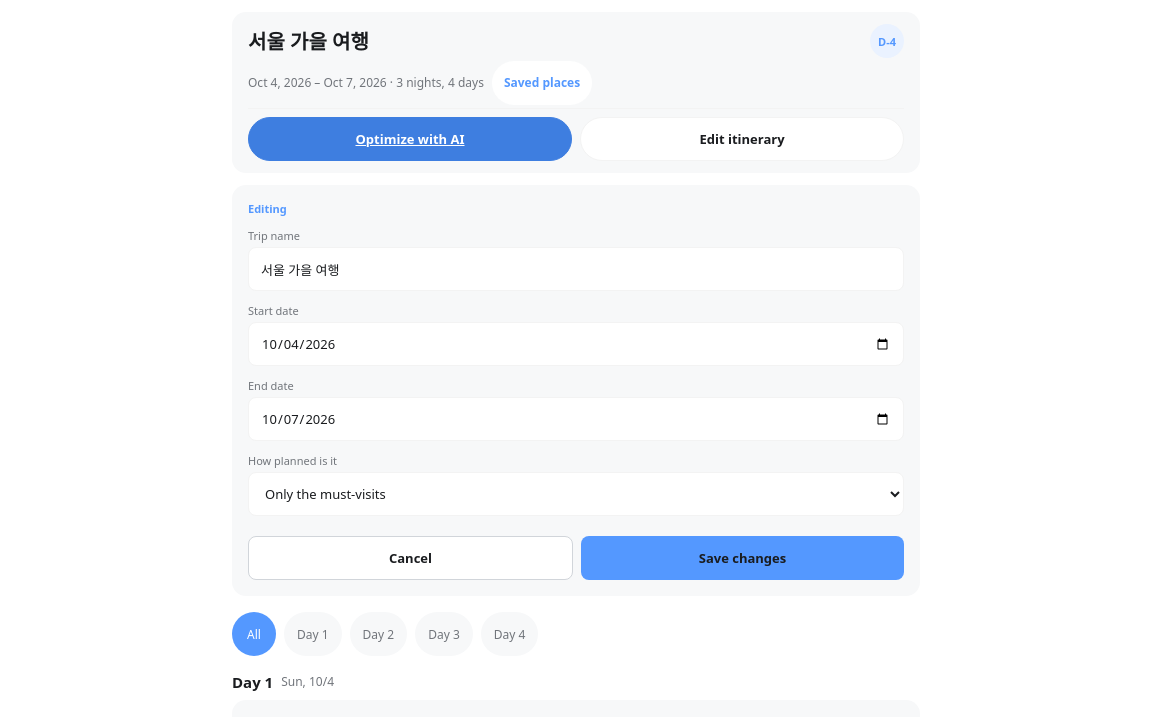
Scenario: FE-302-T1 leaving with unsaved changes asks first › discards only when the user says to leave
Type " 수정" into the field labelled "Trip name".
click(576, 269); type(" 수정")  # box [248, 247, 904, 291]
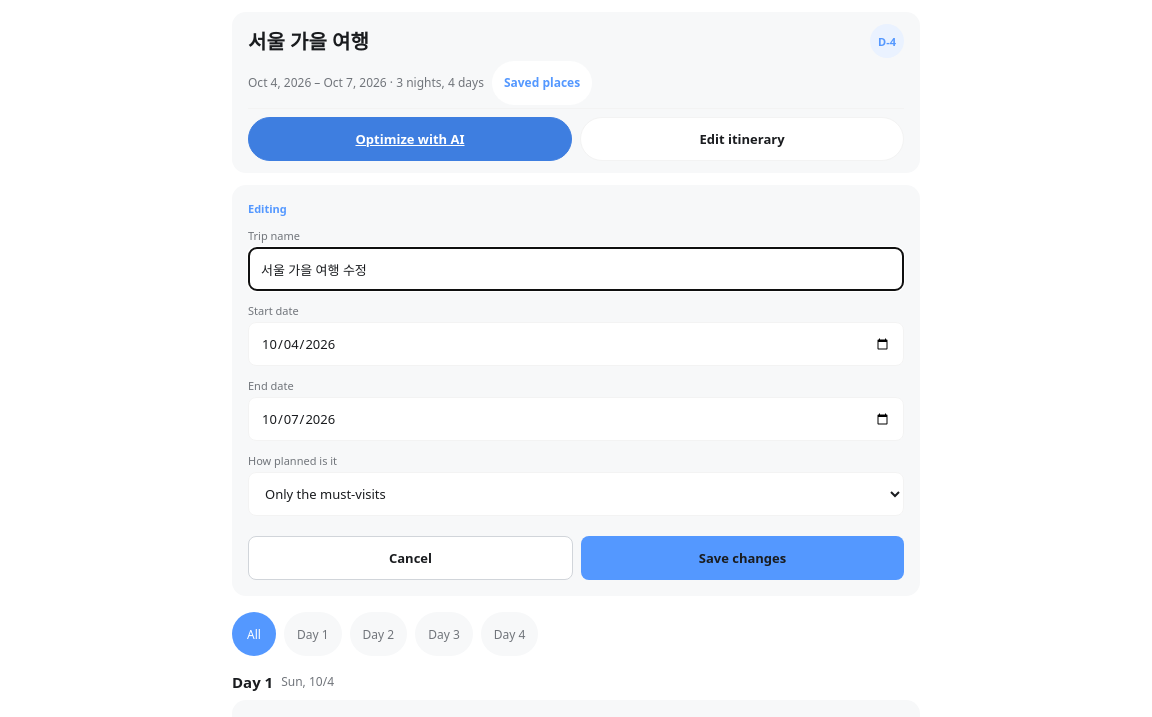
Click the button "Cancel".
click(410, 558)  # box [248, 536, 573, 580]
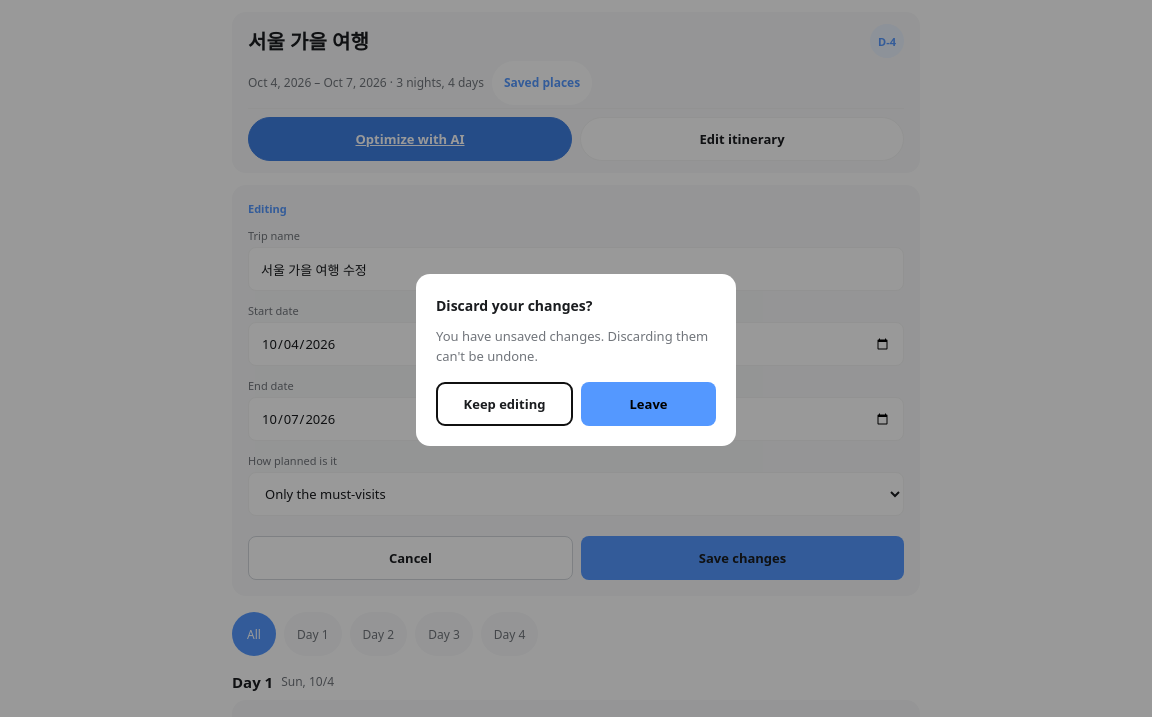
Click the button "Leave".
click(648, 404)  # box [581, 382, 716, 426]
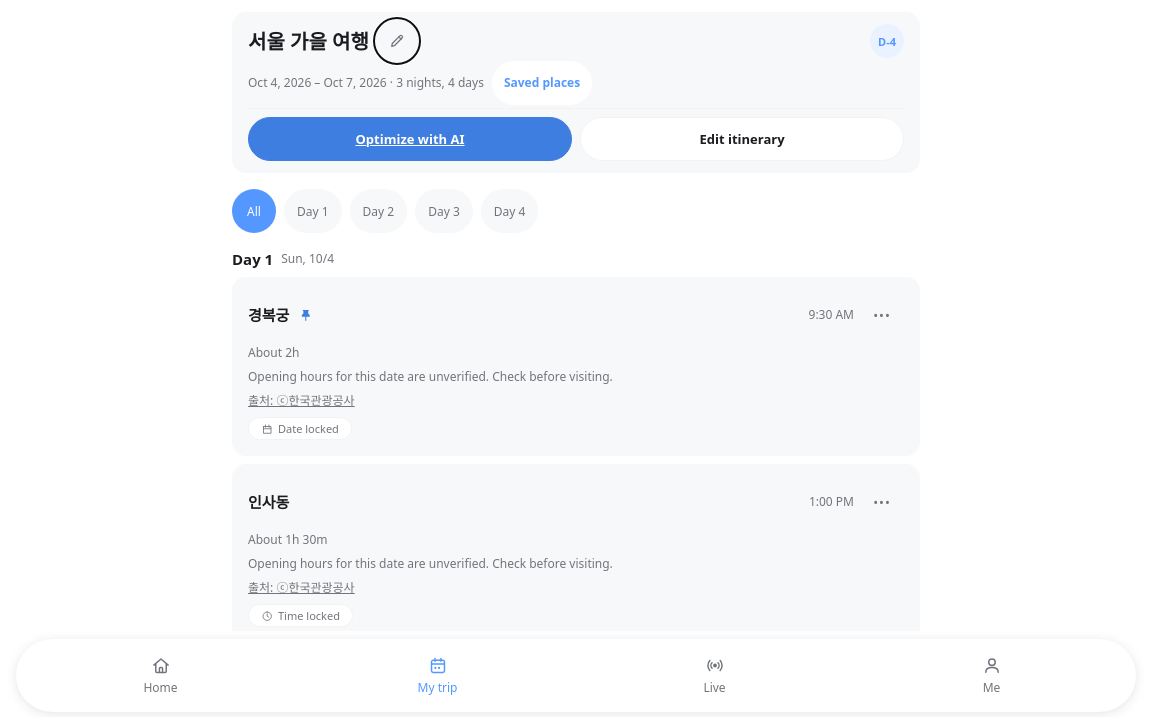
Now the label labelled "Trip name" is gone
